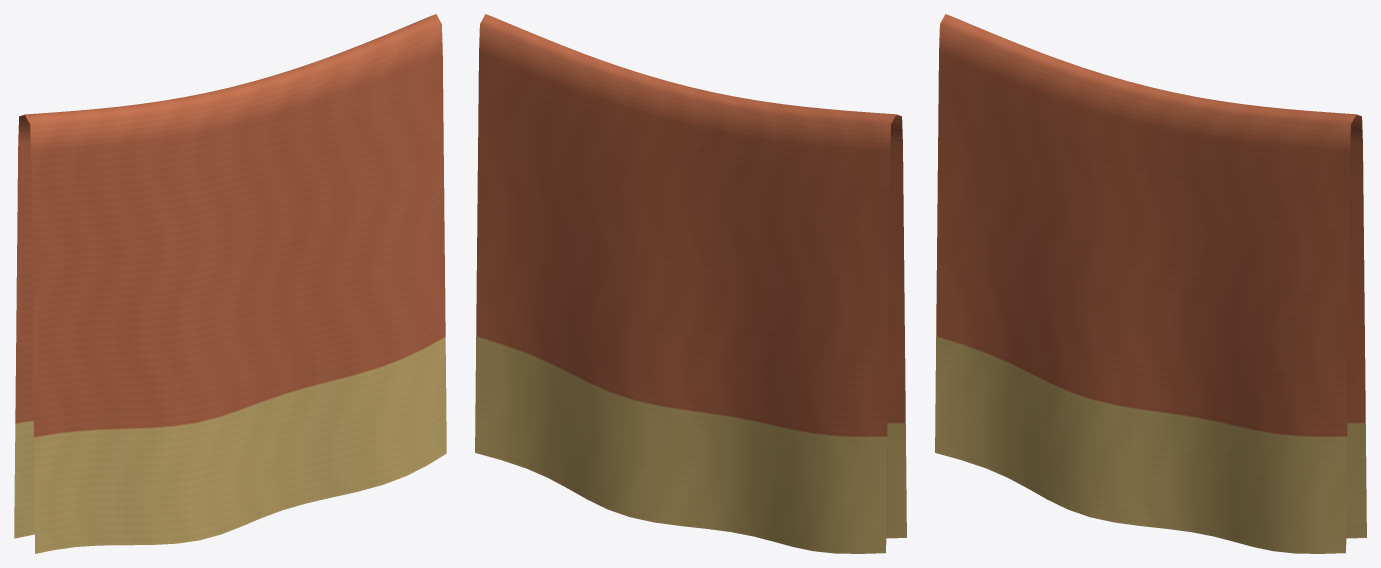
File: cloth_hanging_laundry.glb
3 renders of one model, left to right at view 1: azimuth 30°, elevation 25°; view 2: azimuth 150°, elevation 25°; view 3: azimuth 330°, elevation 25°, orthographic.
Parts seen in each view (by area): view 1: Cloth_Hanging_Laundry; view 2: Cloth_Hanging_Laundry; view 3: Cloth_Hanging_Laundry.
Part boxes in pixels (x1,y1,x2,y2): Cloth_Hanging_Laundry: [14, 14, 446, 553]; Cloth_Hanging_Laundry: [475, 14, 906, 553]; Cloth_Hanging_Laundry: [935, 14, 1366, 553].
Bounding box in the file's own units: 0.84 × 0.887 × 0.1095.
1 material, 1 textured.
